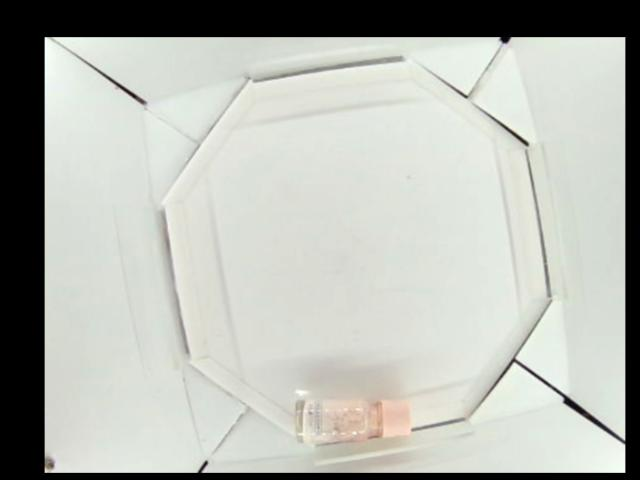Bottle: (295, 396, 411, 443)
